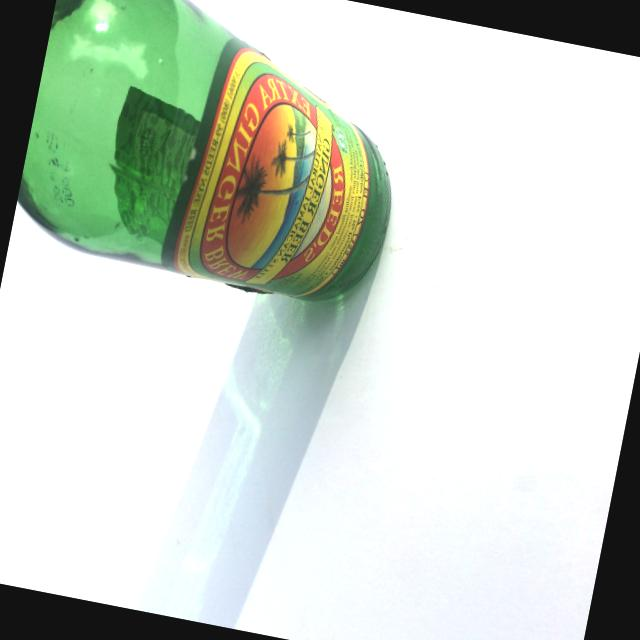Glass: (8, 0, 427, 319)
